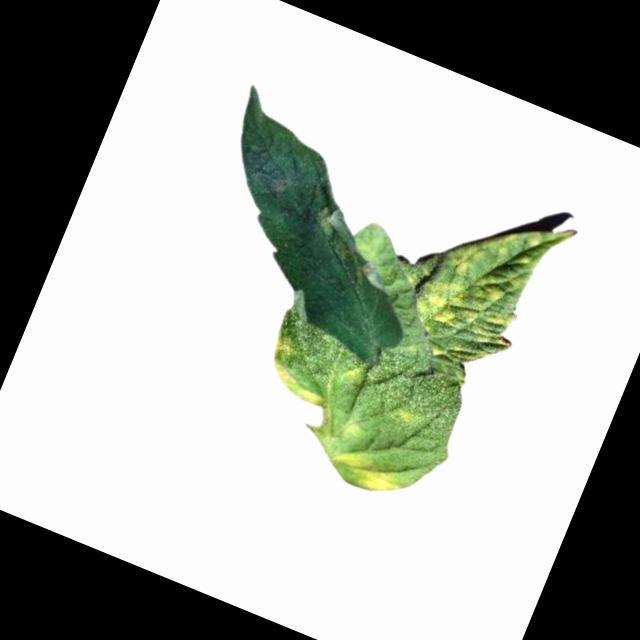Leaf_Mold: (404, 195, 557, 366), (295, 201, 404, 299), (259, 333, 342, 408), (329, 441, 408, 502), (389, 400, 421, 431), (343, 361, 369, 388)
